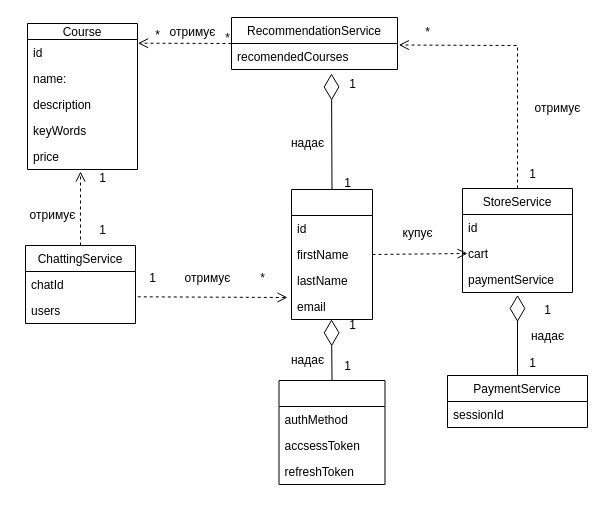
Some shapes in this 609 by 505 pixel diagram are drawn without their labels. Each missing label, with the box of its shape:
AuthService: (278, 380, 385, 484)
User: (290, 188, 372, 320)
